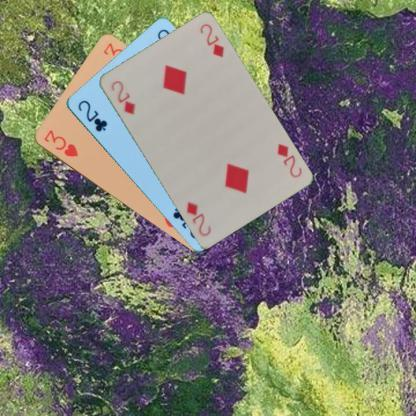2c: (74, 98, 108, 133)
2d: (274, 140, 303, 180), (108, 78, 136, 116)
3h: (41, 127, 79, 158)
